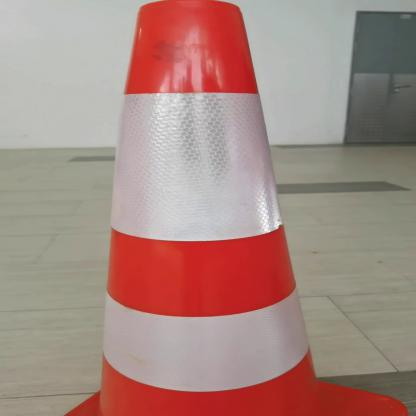cone: (32, 0, 416, 416)
